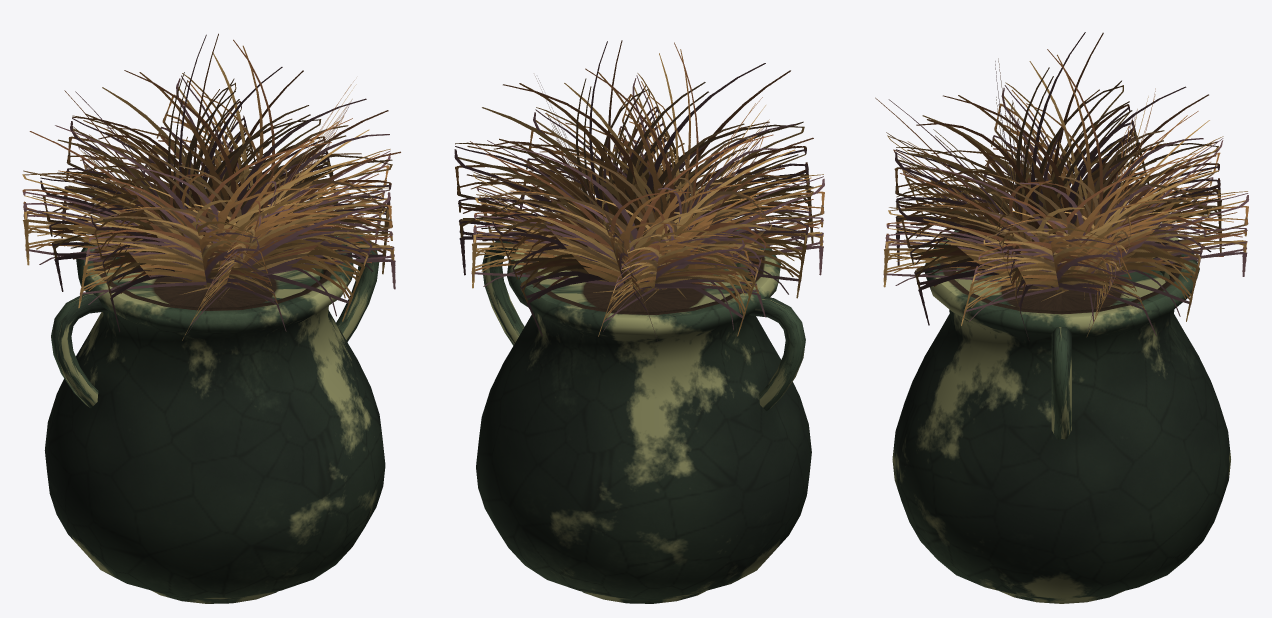
Rendered from mm7_deco_plant07b.glb.
3 views of the same model, side by side, from view 1: azimuth 30°, elevation 25°; view 2: azimuth 150°, elevation 25°; view 3: azimuth 270°, elevation 25° (orthographic).
Parts seen in each view (by area): view 1: Plant; view 2: Plant; view 3: Plant.
Part boxes in pixels (box(x1,y1,x2,y2)): Plant: box(22, 33, 400, 603); Plant: box(454, 40, 824, 603); Plant: box(875, 32, 1248, 603).
Bounding box in the file's own units: 1.47 × 1.85 × 1.41.
Materials: 2 (2 with a texture image).
